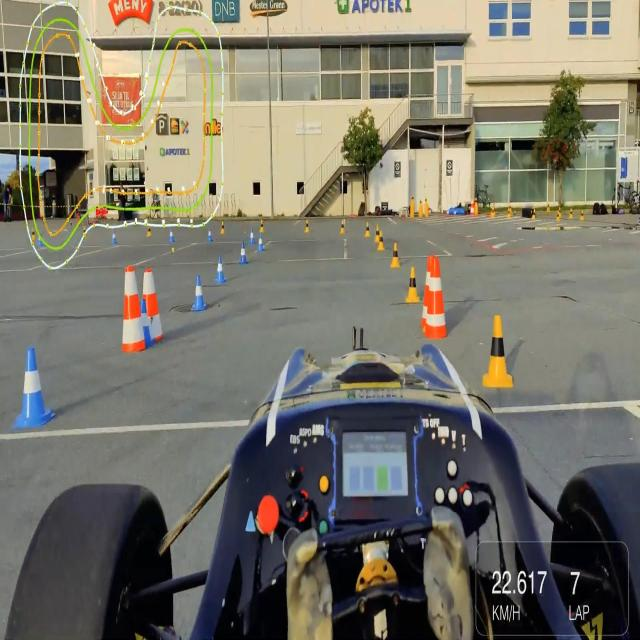blue_cone: (18, 344, 52, 436), (138, 297, 154, 349), (191, 271, 206, 315), (214, 253, 226, 286), (238, 239, 248, 267), (256, 232, 265, 253), (250, 228, 256, 244), (169, 226, 174, 242), (208, 227, 212, 243)
large_orange_cone: (119, 263, 145, 358), (139, 268, 163, 346), (427, 258, 447, 342), (422, 256, 439, 332), (470, 198, 476, 216)
yellow_cone: (483, 314, 514, 392), (405, 262, 421, 310), (390, 241, 401, 268), (377, 230, 385, 252), (340, 219, 346, 234), (220, 220, 226, 235), (305, 218, 310, 235), (365, 221, 370, 236), (260, 218, 264, 233), (147, 224, 151, 238)
